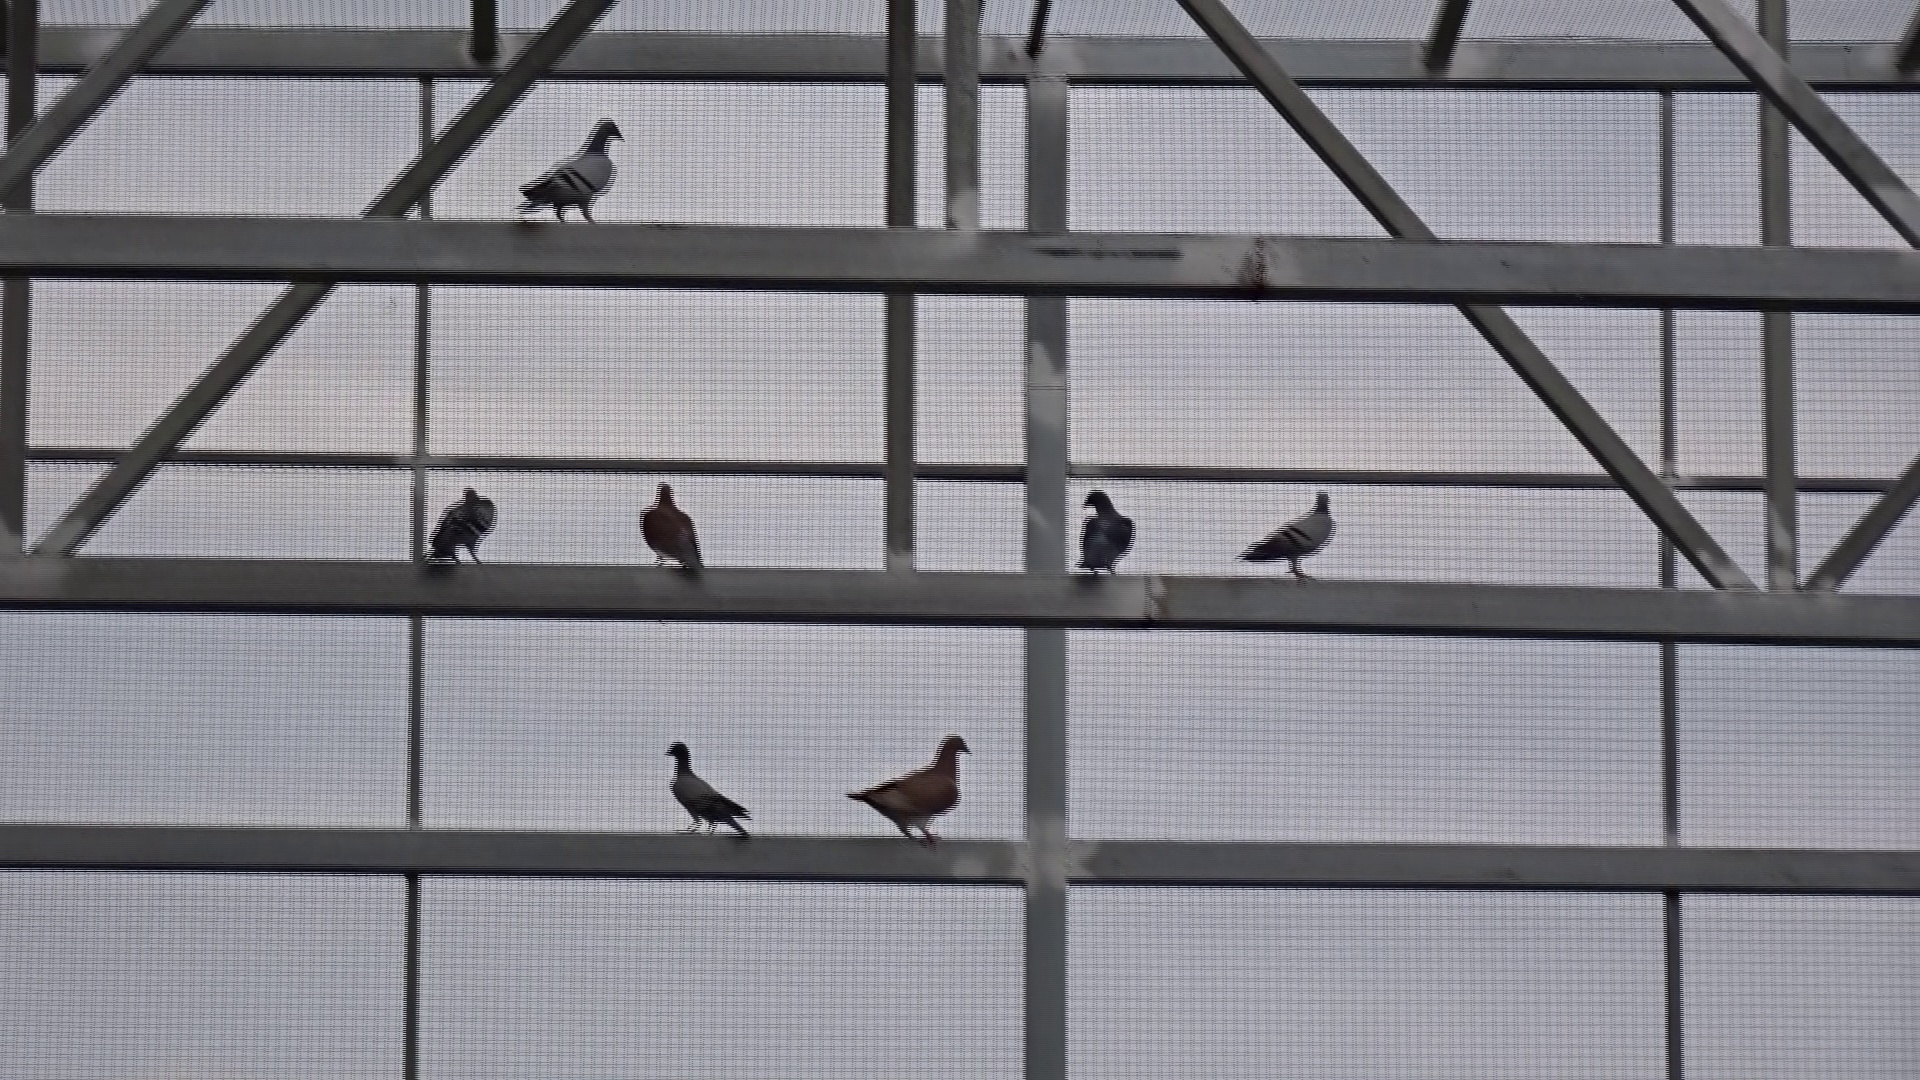bird: (843, 729, 971, 843), (510, 117, 629, 223), (1234, 488, 1338, 579), (665, 741, 756, 839), (640, 481, 707, 572), (425, 487, 498, 567), (1079, 488, 1139, 576)
